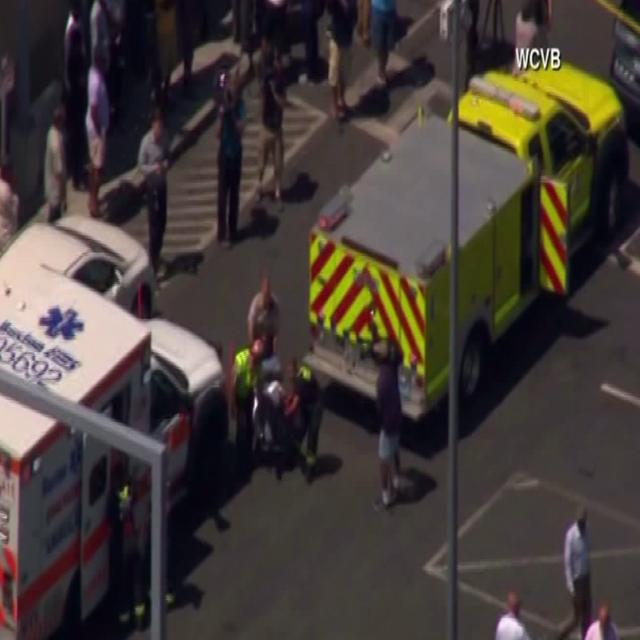body: (106, 0, 403, 116), (102, 451, 148, 639), (486, 584, 625, 640), (249, 362, 312, 484), (249, 48, 288, 209), (61, 0, 92, 194), (82, 40, 113, 222), (0, 38, 24, 271), (374, 330, 405, 510), (138, 110, 170, 278), (215, 96, 248, 245), (562, 503, 591, 640), (292, 364, 324, 486), (231, 337, 265, 451), (324, 0, 353, 127), (41, 103, 70, 227), (247, 271, 279, 357), (513, 0, 545, 72), (460, 0, 483, 92), (88, 0, 111, 73)
